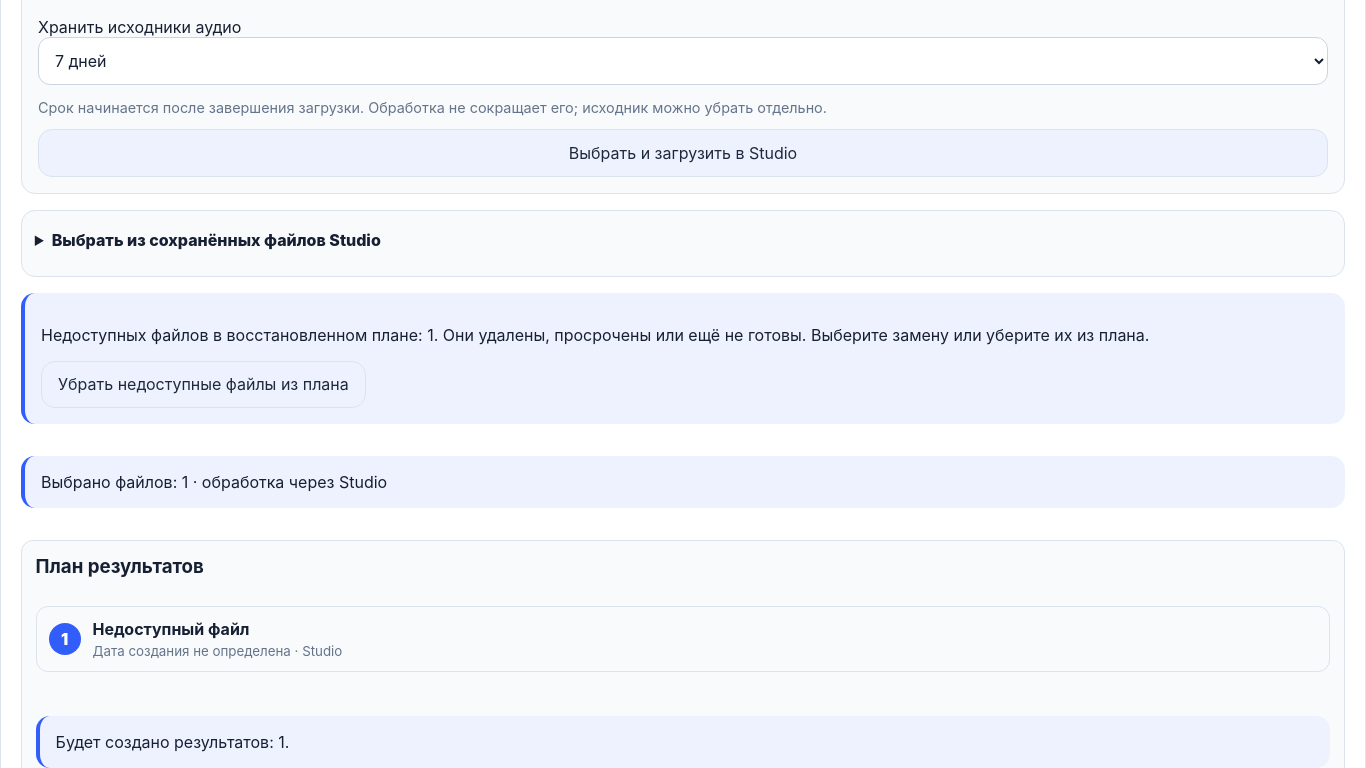
Test case: AudioPreparationPage › blocks a restored removed source and lets the user clear only unavailable selections
(page scrolled)
Expected: the text "Недоступный файл" is shown, [93,619,250,639]
Click the button "Убрать недоступные файлы из плана". click: (203, 384)
box: [41,361,366,408]
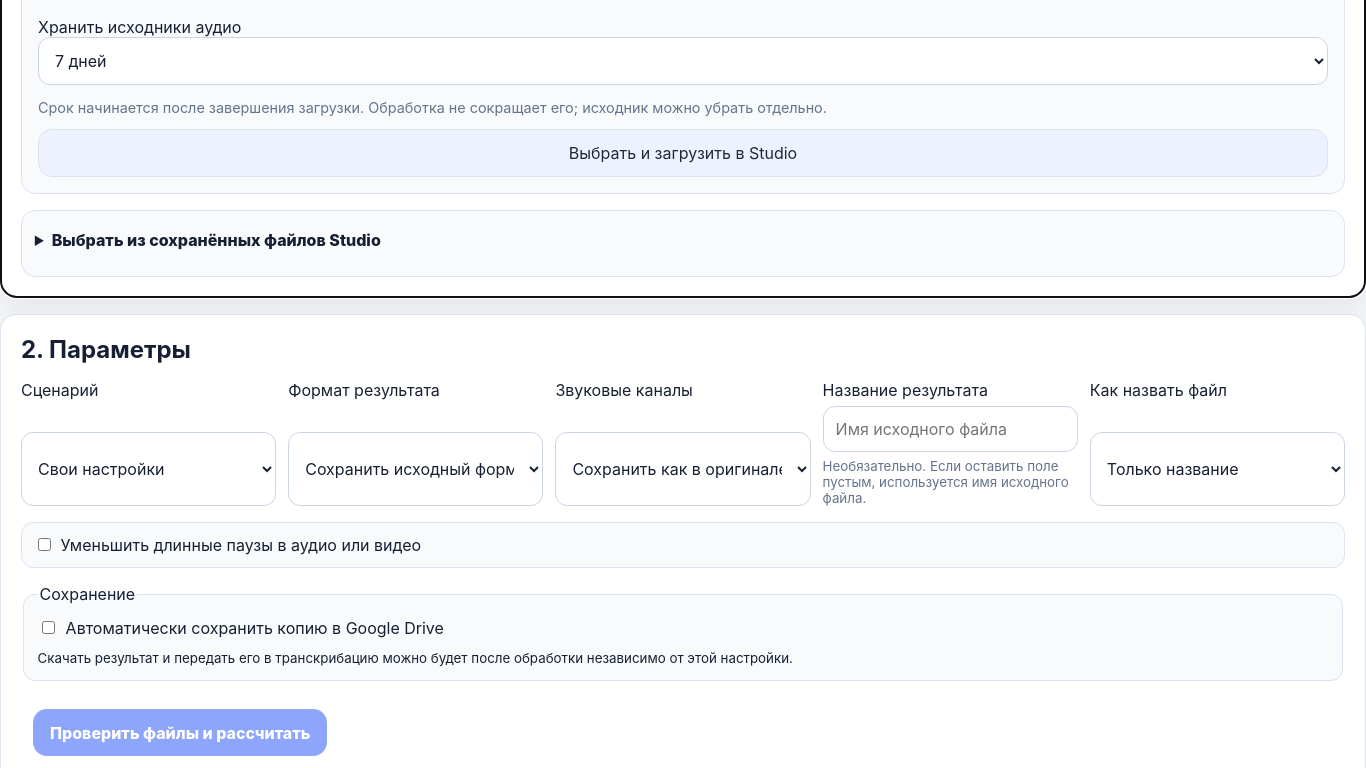
Result: the text "Недоступный файл" is gone
